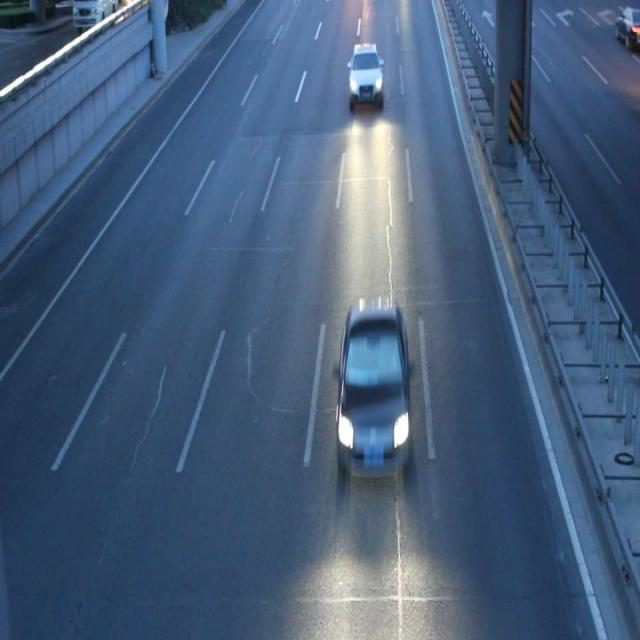car: (335, 306, 411, 475), (347, 44, 383, 107)
